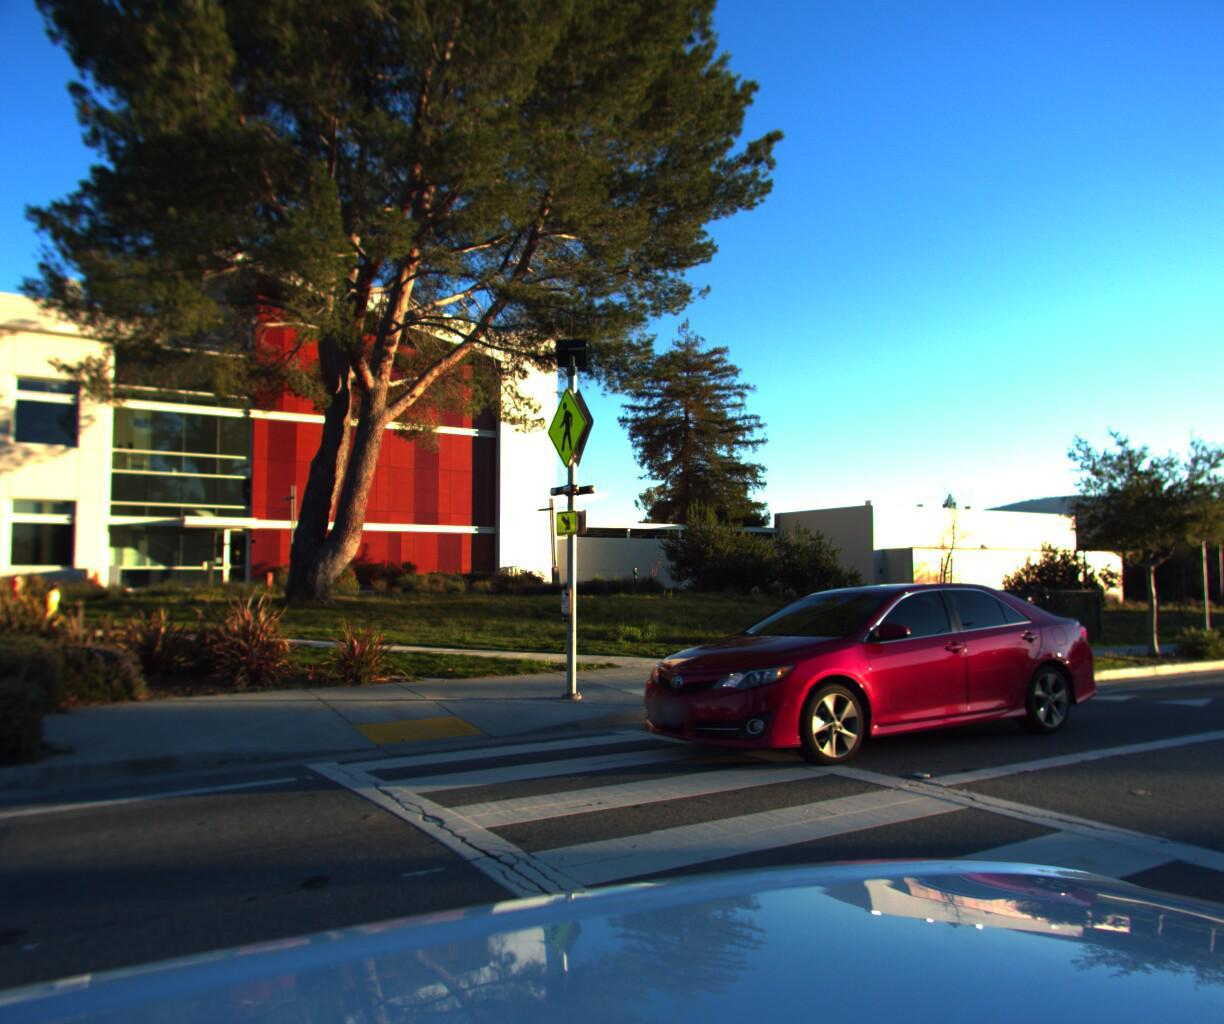car: (603, 578, 1121, 805)
